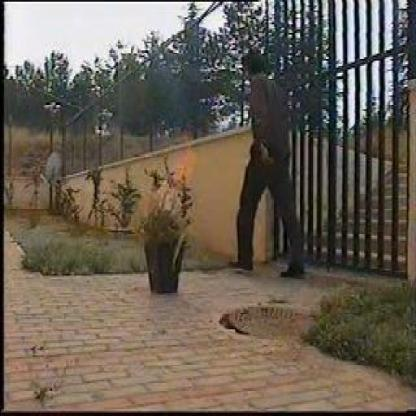foggia-v2-map80-epoch100 - v1 4323: (172, 154, 190, 192)
